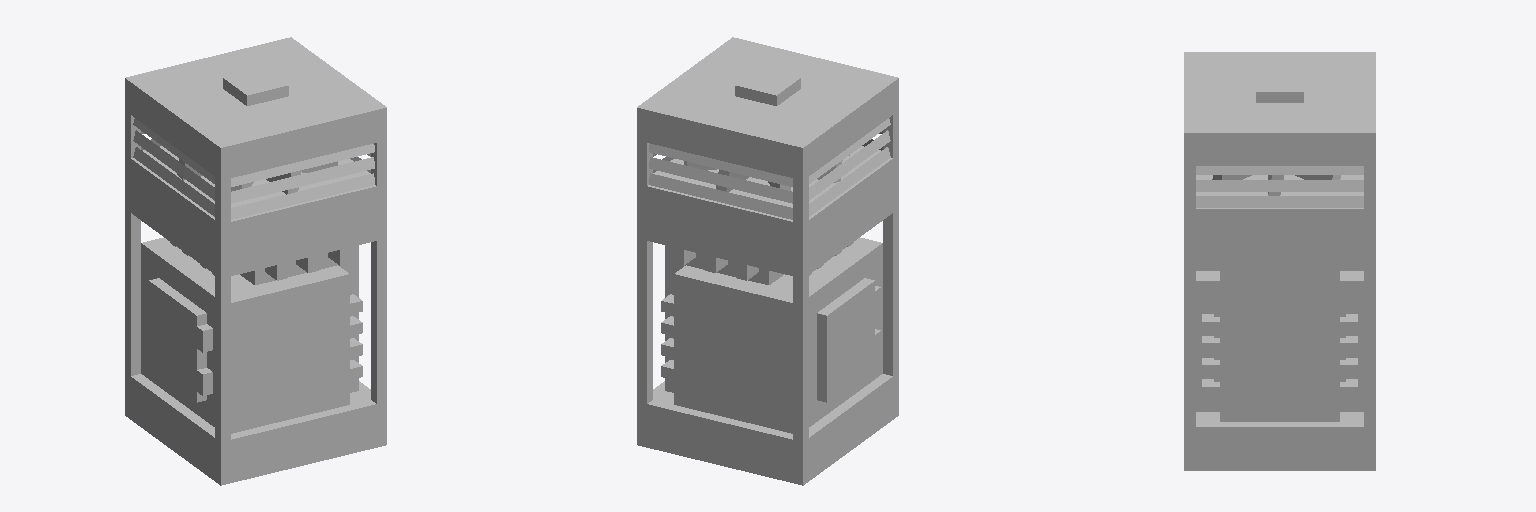
The model's file is incendiary_generator.obj.
The picture shows the model from 3 angles: view 1: azimuth 30°, elevation 25°; view 2: azimuth 150°, elevation 25°; view 3: azimuth 270°, elevation 25°; orthographic projection.
Visible parts, largest first — view 1: incendiary_generator; view 2: incendiary_generator; view 3: incendiary_generator.
Part boxes in pixels (x1,y1,x2,y2): incendiary_generator: (125, 37, 386, 485); incendiary_generator: (637, 37, 898, 485); incendiary_generator: (1184, 52, 1375, 470).
Size of the model in its own units: 1 by 2 by 1.